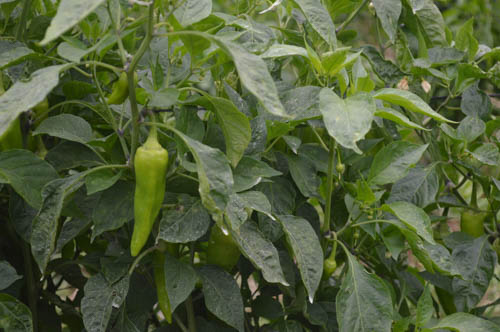ChiliPepper: (130, 148, 168, 259)
